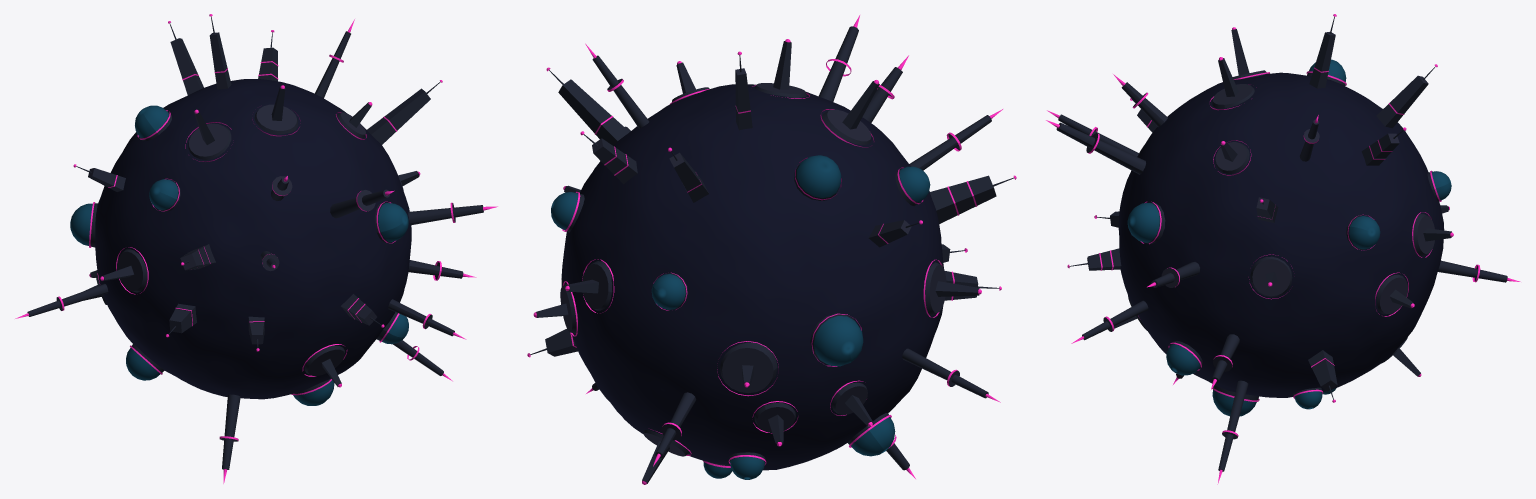
The model's file is planeta.obj.
3 renders of one model, left to right at view 1: azimuth 30°, elevation 25°; view 2: azimuth 150°, elevation 25°; view 3: azimuth 270°, elevation 25°, orthographic. The views are drawn at different scales.
Visible parts, largest first — view 1: PlanetaFuturista; view 2: PlanetaFuturista; view 3: PlanetaFuturista.
Boxes of the visible parts, box(x1,y1,x2,y2) form: PlanetaFuturista: box(15, 14, 497, 483); PlanetaFuturista: box(527, 15, 1016, 484); PlanetaFuturista: box(1046, 14, 1520, 484).
Bounding box in the file's own units: 29.94 × 27.54 × 29.42.
